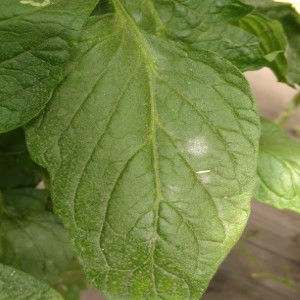oidio: (183, 133, 210, 158), (198, 175, 216, 185)
